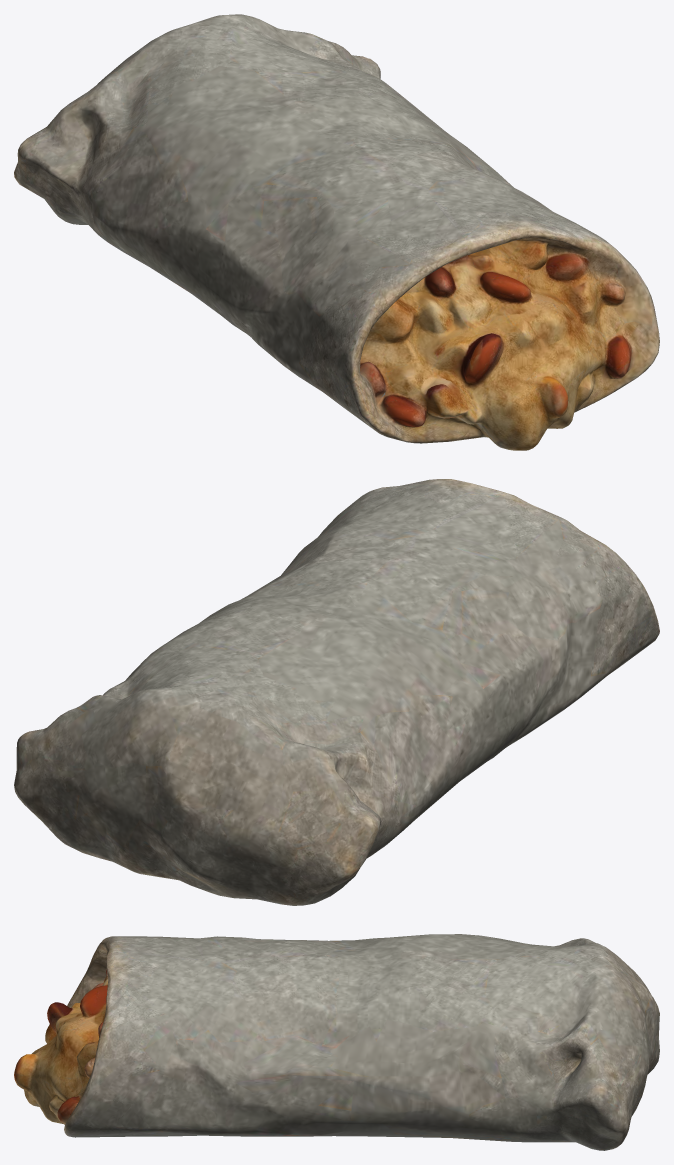
File: burrito.glb
3 views of the same model, one above another, from view 1: azimuth 30°, elevation 25°; view 2: azimuth 150°, elevation 25°; view 3: azimuth 270°, elevation 25° (orthographic). The views are drawn at different scales.
Visible parts, largest first — view 1: Mesh_0; view 2: Mesh_0; view 3: Mesh_0.
Boxes of the visible parts, bbox=[...] form: Mesh_0: bbox=[14, 14, 659, 450]; Mesh_0: bbox=[14, 479, 659, 905]; Mesh_0: bbox=[14, 934, 659, 1150].
Size of the model in its own units: 1.02 by 0.4884 by 1.9.
Materials: 1 (1 with a texture image).
